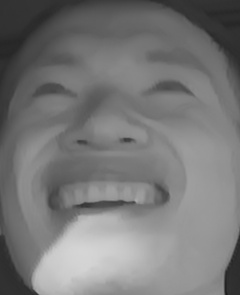eye: (141, 71, 198, 104), (27, 78, 83, 103)
mouth: (42, 165, 175, 228)
